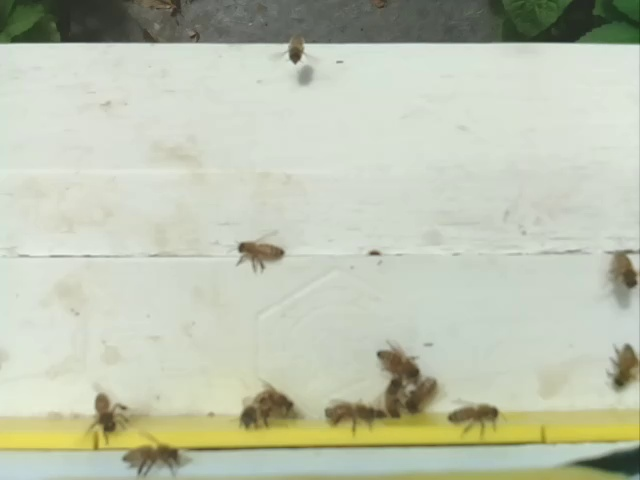bee: (227, 372, 308, 443), (79, 382, 141, 445), (318, 386, 392, 438), (222, 229, 302, 275), (116, 434, 194, 480), (590, 237, 640, 305), (440, 394, 509, 442), (368, 333, 430, 386), (592, 330, 640, 397), (275, 26, 319, 74), (407, 375, 441, 423), (379, 373, 409, 424)
